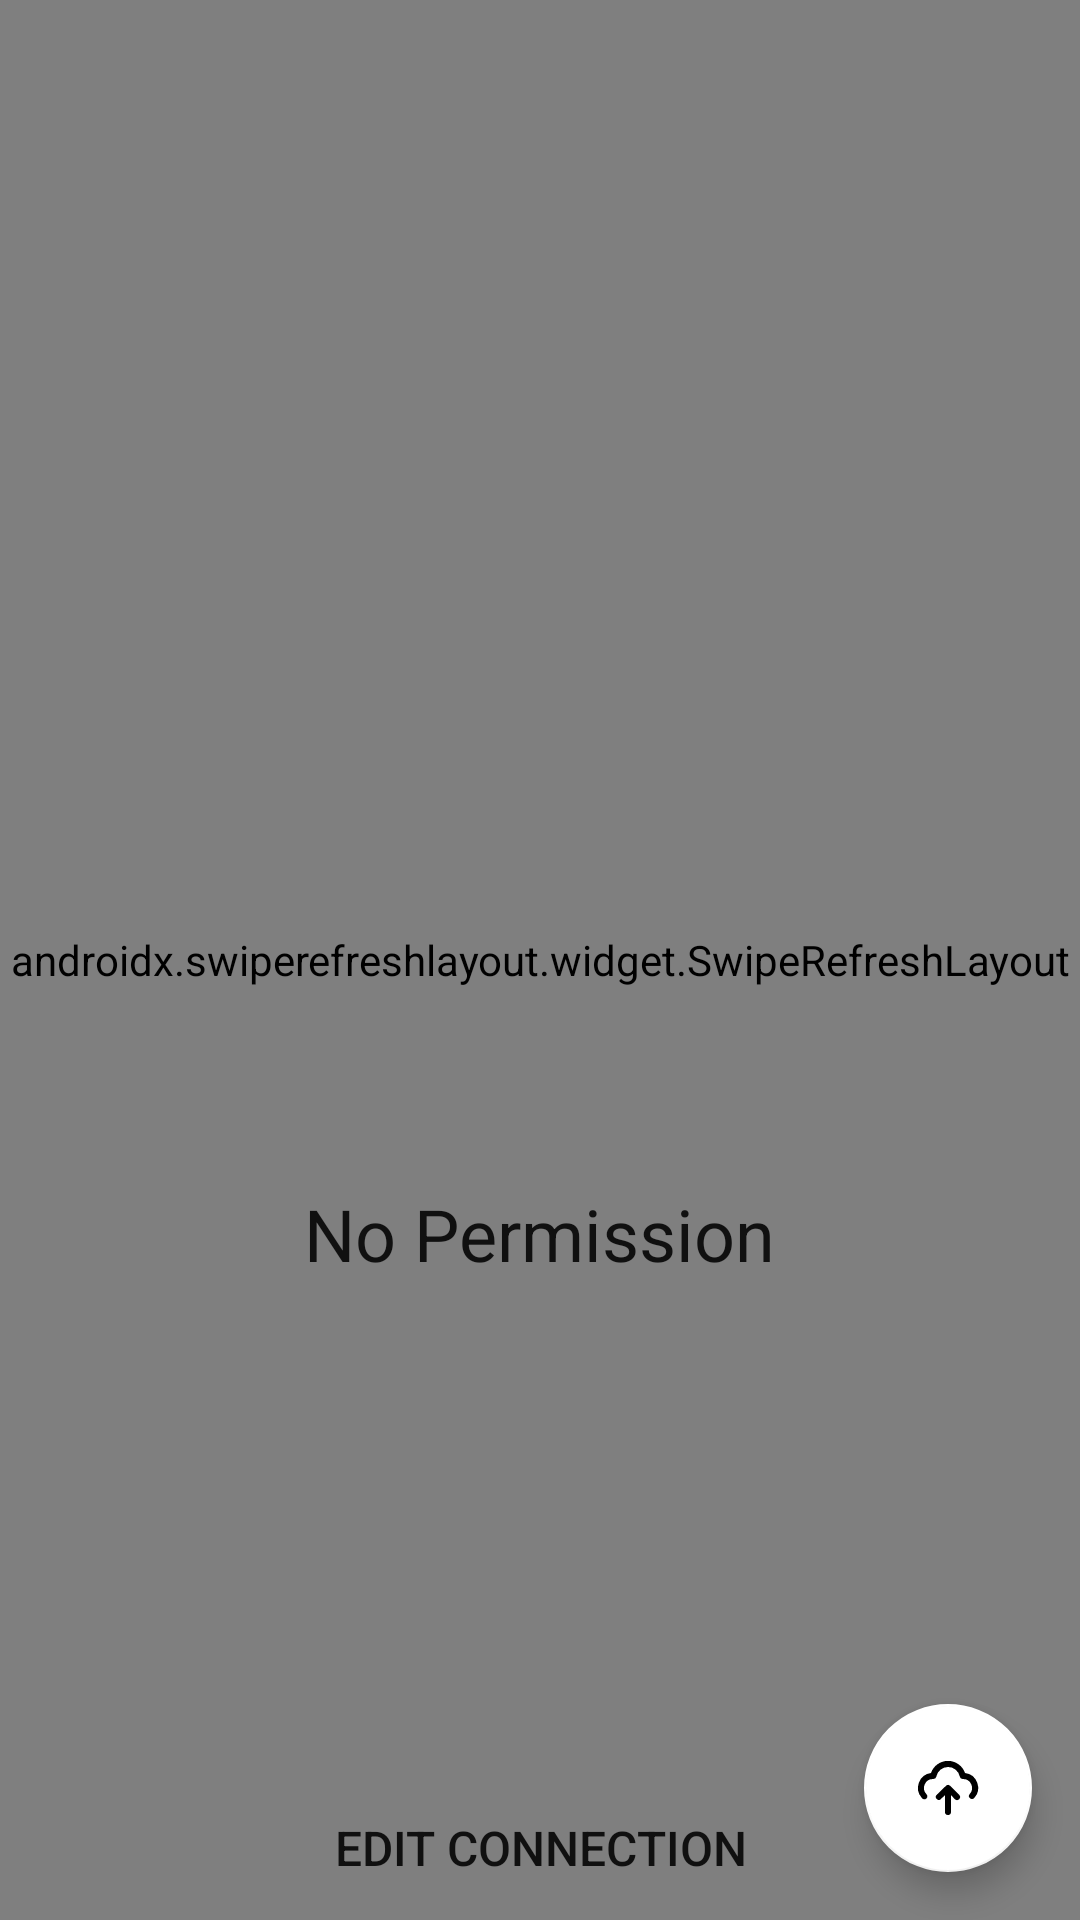

Named icons in this screenshot (1080*1920) and their centers, (x=x, y=y):
cloud upload: (x=948, y=1788)
